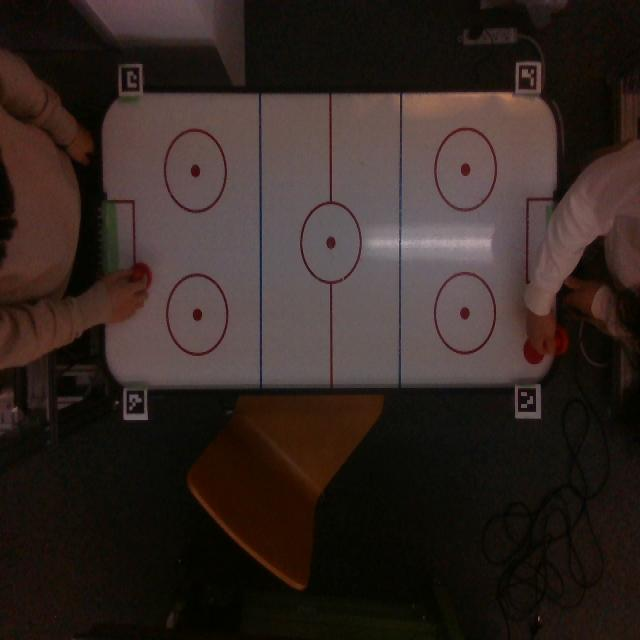puck: (522, 334, 544, 366)
